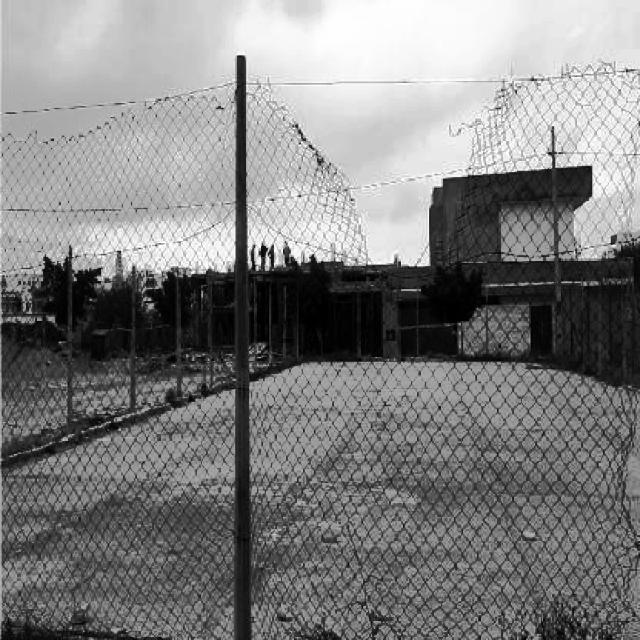anomaly-fence: (263, 41, 640, 257), (0, 72, 243, 176), (571, 409, 638, 640)
